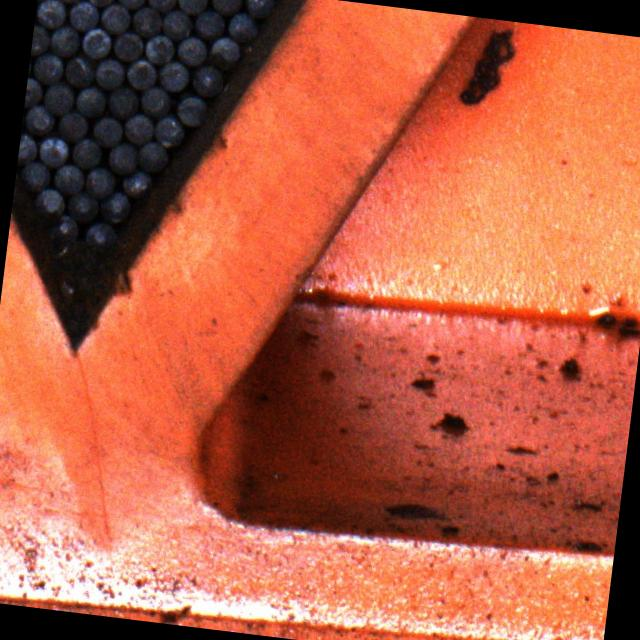tool: (42, 80, 74, 116), (98, 189, 132, 222), (138, 85, 172, 118), (72, 83, 105, 117), (208, 35, 241, 69), (106, 86, 138, 120), (124, 56, 156, 90), (190, 63, 222, 97), (34, 187, 66, 220), (130, 5, 162, 38), (156, 59, 190, 90), (66, 189, 98, 221), (36, 134, 68, 166), (136, 140, 168, 172), (122, 112, 154, 144), (22, 104, 54, 136), (30, 52, 62, 84), (62, 56, 94, 88), (92, 58, 124, 90), (175, 34, 207, 66), (143, 33, 175, 65), (67, 0, 99, 32), (98, 2, 130, 34), (160, 8, 192, 40), (85, 220, 116, 253), (80, 25, 110, 59), (19, 160, 50, 192), (83, 166, 114, 198), (90, 115, 122, 146), (112, 31, 144, 62), (48, 212, 78, 245), (106, 141, 136, 174), (70, 136, 101, 167), (176, 95, 207, 126), (153, 115, 183, 147), (56, 110, 88, 140), (49, 24, 79, 56), (193, 10, 225, 40), (227, 10, 257, 42), (54, 163, 84, 194), (120, 169, 150, 199), (35, 0, 66, 28), (16, 132, 38, 166), (23, 76, 42, 108), (30, 25, 48, 55), (244, 0, 274, 17), (175, 0, 207, 14), (210, 0, 241, 14), (146, 0, 176, 11), (115, 0, 145, 8)
